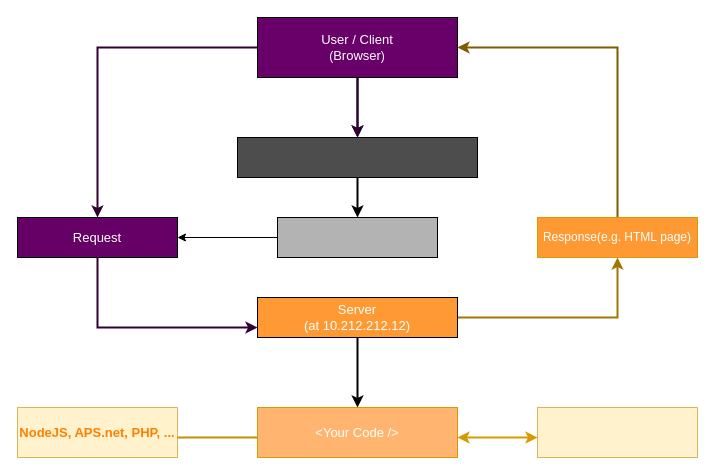
This 715x475 diagram has some shape labels left out. The centre of each missing label's shape, as x and y in pixels:
"Database" goes at (x=617, y=432).
"Domain Lookup" goes at (x=357, y=237).
"http://abcd.com" goes at (x=357, y=157).
